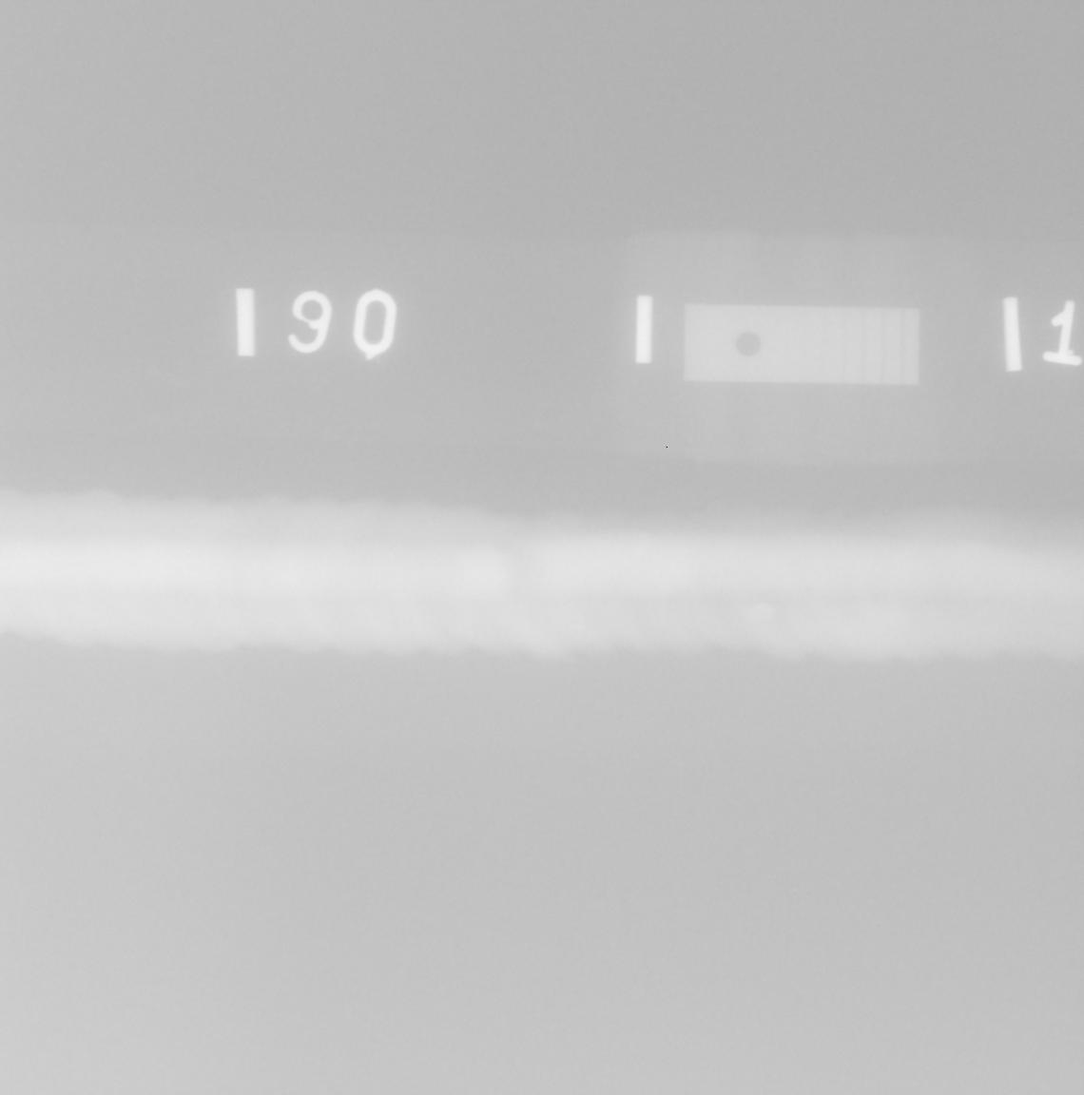Pore/Porosity: (805, 586, 813, 592), (767, 589, 774, 594)
Reference Standard 1: (684, 304, 919, 385)
